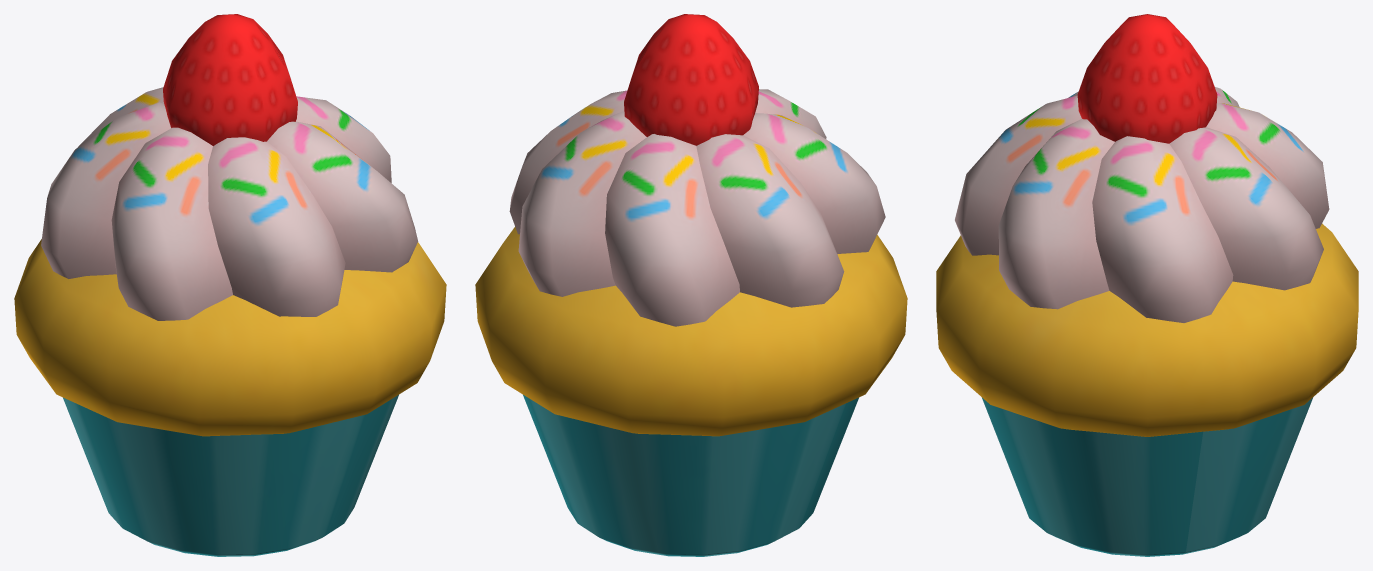
Rendered from UnitIconCupCake.glb.
The picture shows the model from 3 angles, left to right: view 1: azimuth 30°, elevation 25°; view 2: azimuth 150°, elevation 25°; view 3: azimuth 270°, elevation 25°; orthographic projection.
Parts seen in each view (by area): view 1: Body__mBody; view 2: Body__mBody; view 3: Body__mBody.
Part boxes in pixels (x1,y1,x2,y2): Body__mBody: (14, 14, 446, 556); Body__mBody: (475, 14, 907, 556); Body__mBody: (936, 14, 1358, 556).
Bounding box in the file's own units: 2.98 × 3.75 × 2.9.
Materials: 1 (1 with a texture image).
